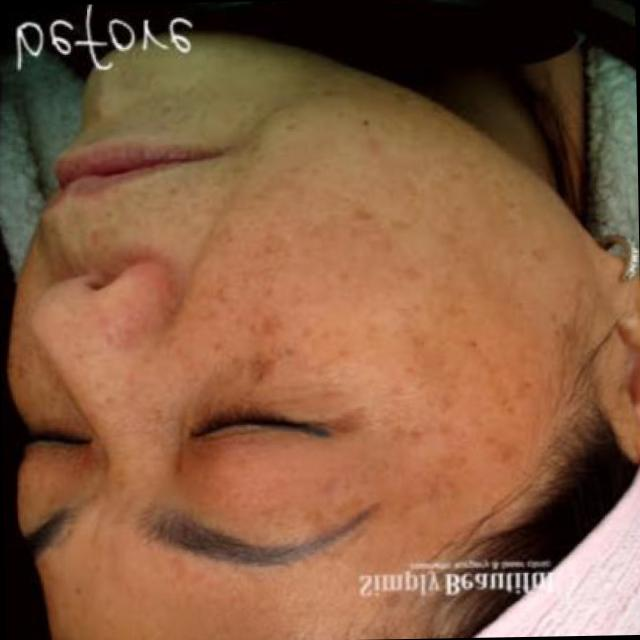melasma: (174, 113, 572, 464), (307, 451, 505, 578)
